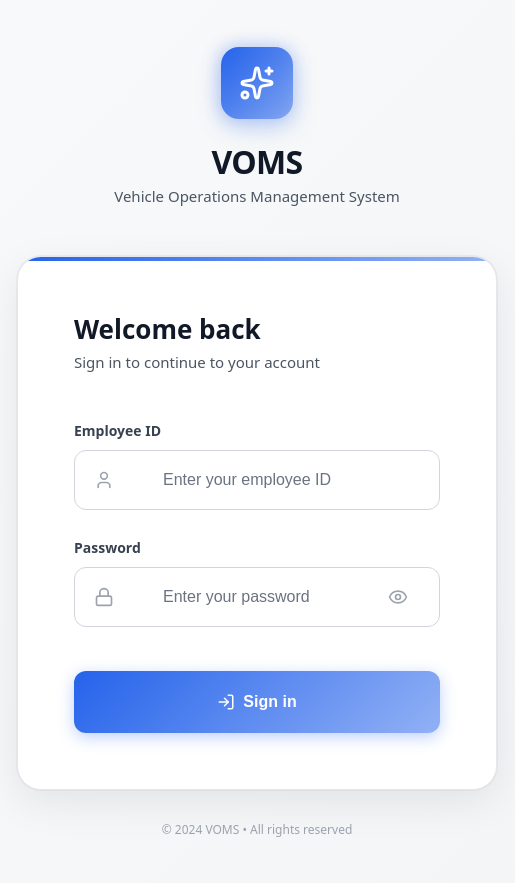
Test: Login Page › Form Submission › should show error message on login failure
Type "TEST001" into the field labelled "Employee ID". click: (257, 480)
box: 74,450 -> 440,510
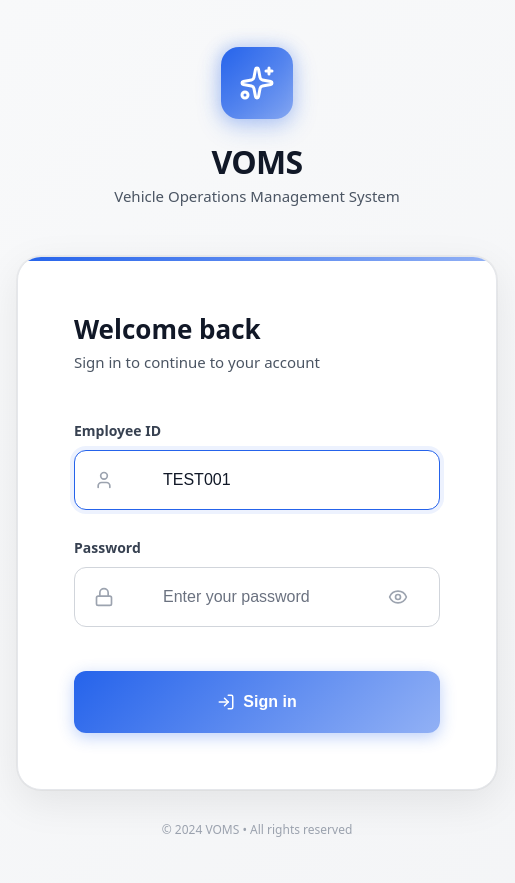
Type "wrongpassword" into the password field labelled "Password". click: (257, 597)
box: 74,567 -> 440,627
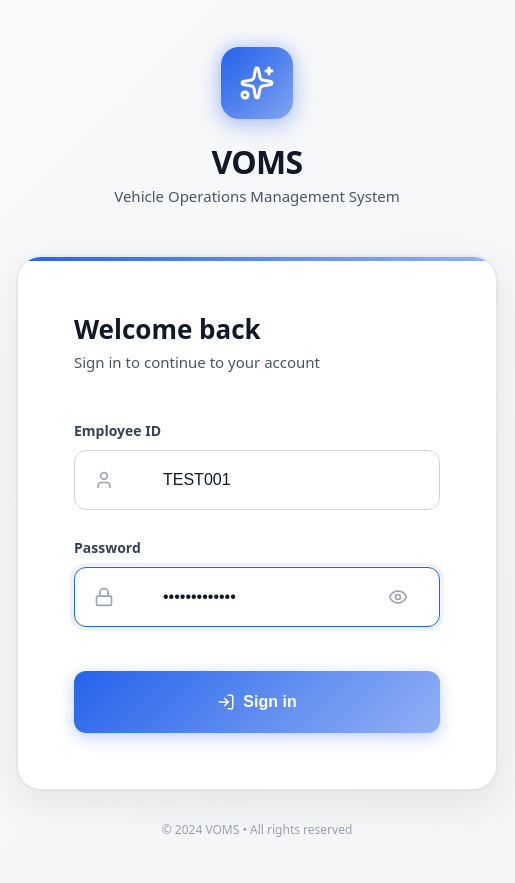
Click the button "Sign in". click: (257, 702)
box: 74,671 -> 440,733
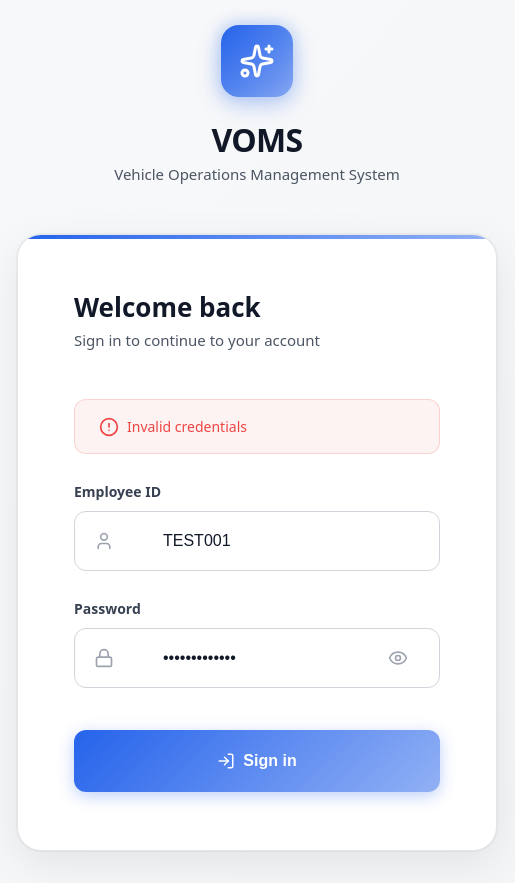
expect the text "Invalid credentials" is shown: met, box 127,416 -> 247,437
